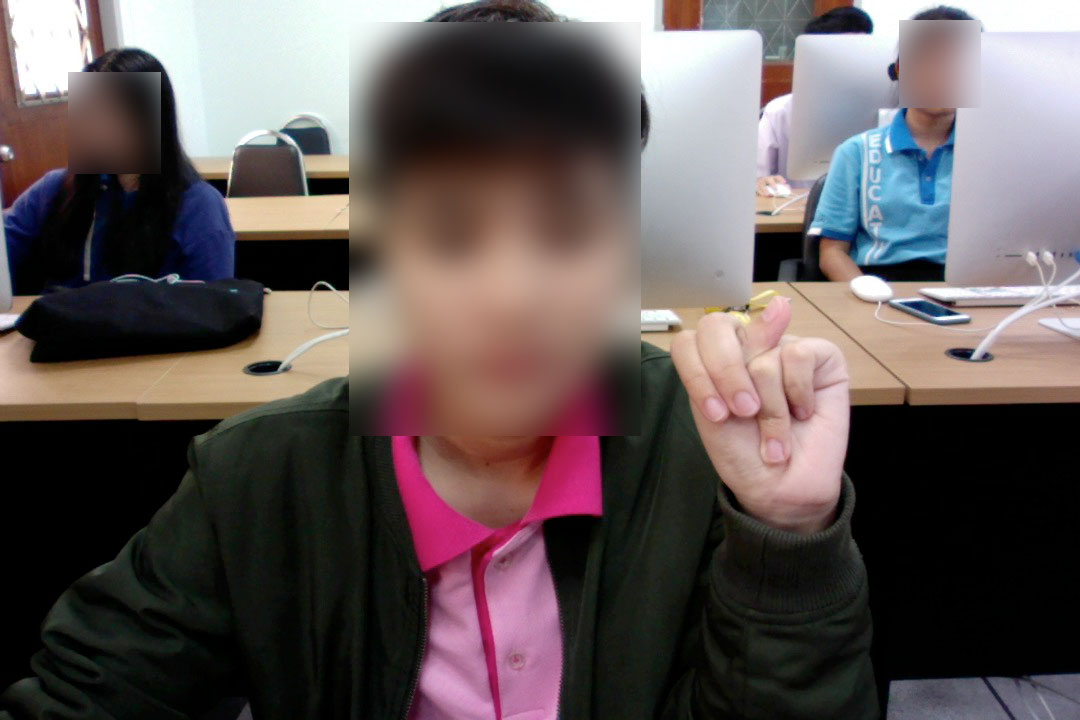nor: (667, 291, 863, 539)
